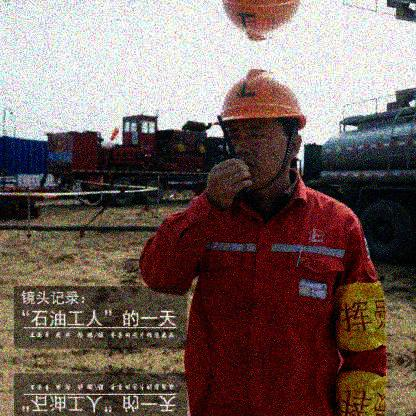helmet: (213, 68, 308, 191)
